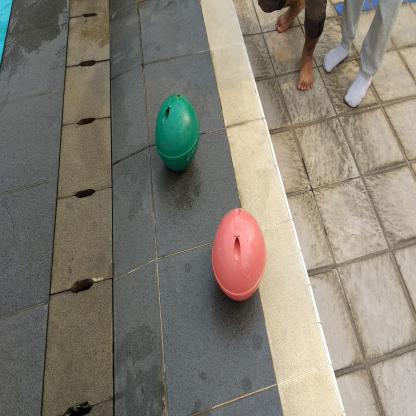green_buoy: (150, 87, 204, 180)
red_buoy: (209, 203, 270, 311)
